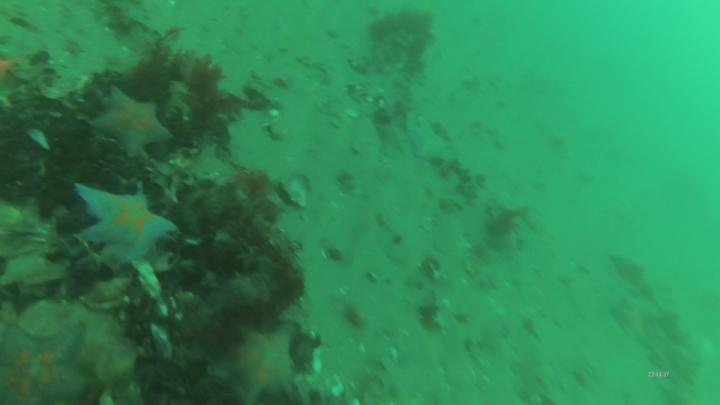starfish: (68, 175, 178, 274), (2, 315, 103, 405), (208, 317, 307, 405), (89, 85, 174, 161), (403, 110, 459, 170)
